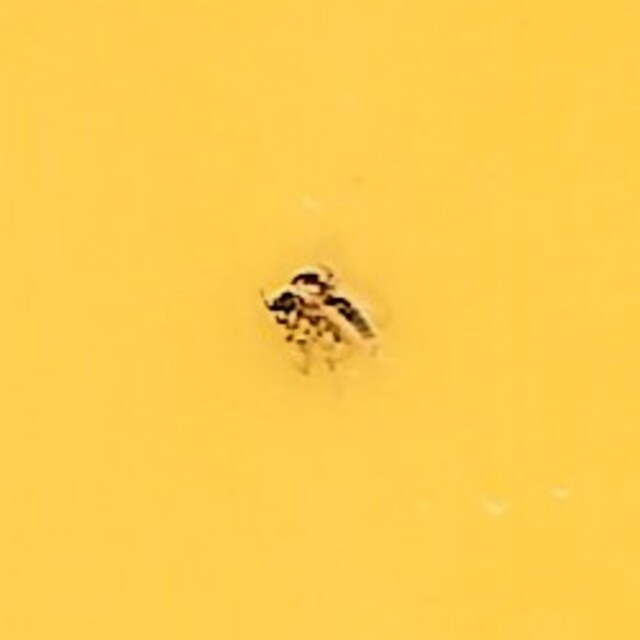Brachycera: (256, 261, 384, 379)
